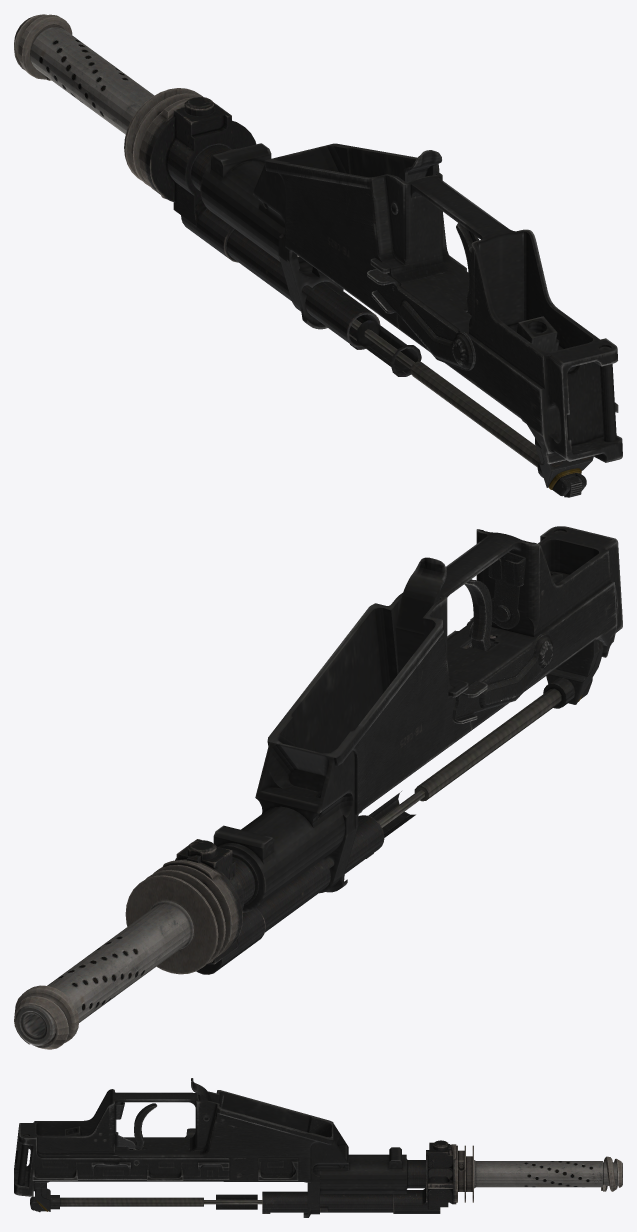
3 views of the same model, one above another, from view 1: azimuth 30°, elevation 25°; view 2: azimuth 150°, elevation 25°; view 3: azimuth 270°, elevation 25° (orthographic). The views are drawn at different scales.
Parts seen in each view (by area): view 1: TW_57c44b372459772d2b39b8ce_PZ_Import; view 2: TW_57c44b372459772d2b39b8ce_PZ_Import; view 3: TW_57c44b372459772d2b39b8ce_PZ_Import.
Part boxes in pixels (x1,y1,x2,y2): TW_57c44b372459772d2b39b8ce_PZ_Import: (14,14,622,497); TW_57c44b372459772d2b39b8ce_PZ_Import: (14,526,622,1049); TW_57c44b372459772d2b39b8ce_PZ_Import: (14,1078,622,1217).
Size of the model in its own units: 0.0243 by 0.2406 by 0.06.
Materials: 1 (1 with a texture image).
